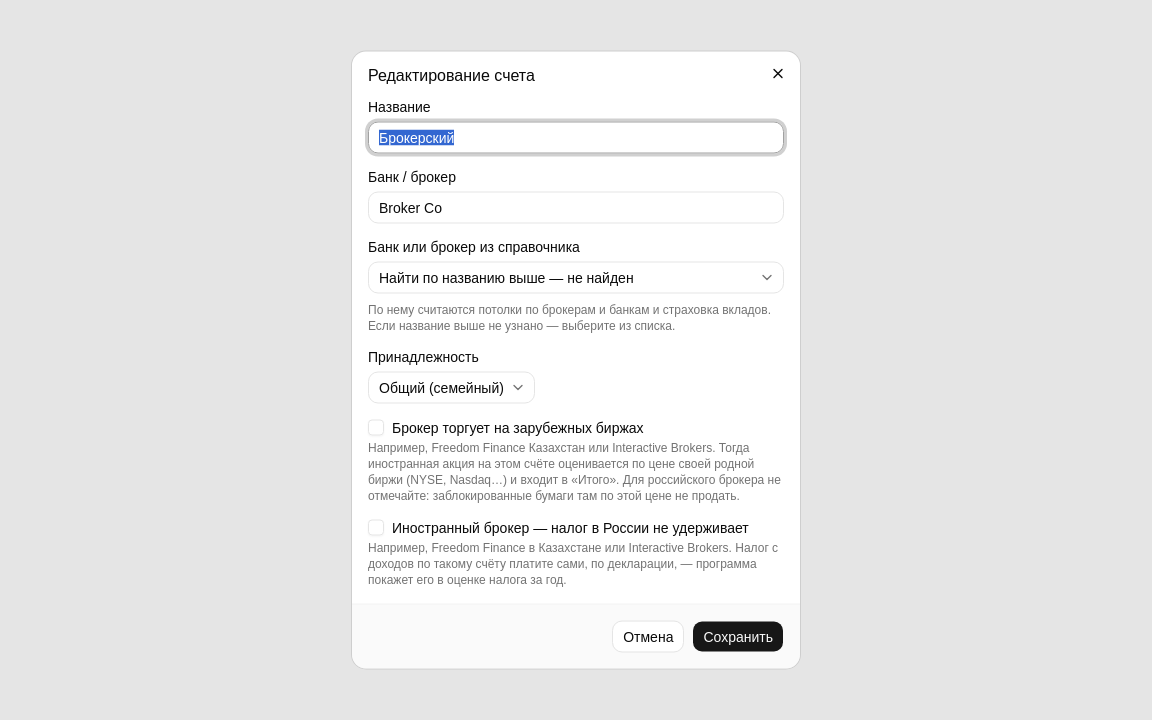
Scenario: AccountDialog — a refusal from the server › says the changes were not saved, in Russian
The image size is (1152, 720).
Replace the text in the field labelled "Название" with "Другое имя": (576, 138) top-left (368, 122), bottom-right (784, 154)
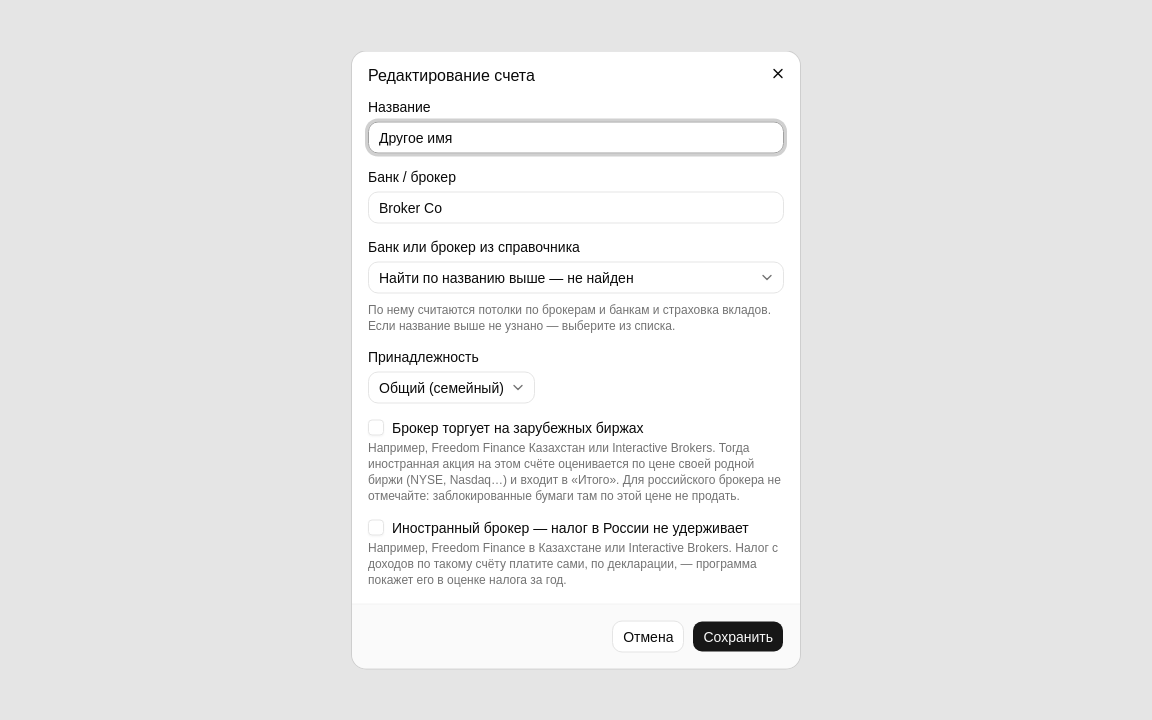
Click the button "Сохранить": (738, 636) top-left (692, 620), bottom-right (784, 652)
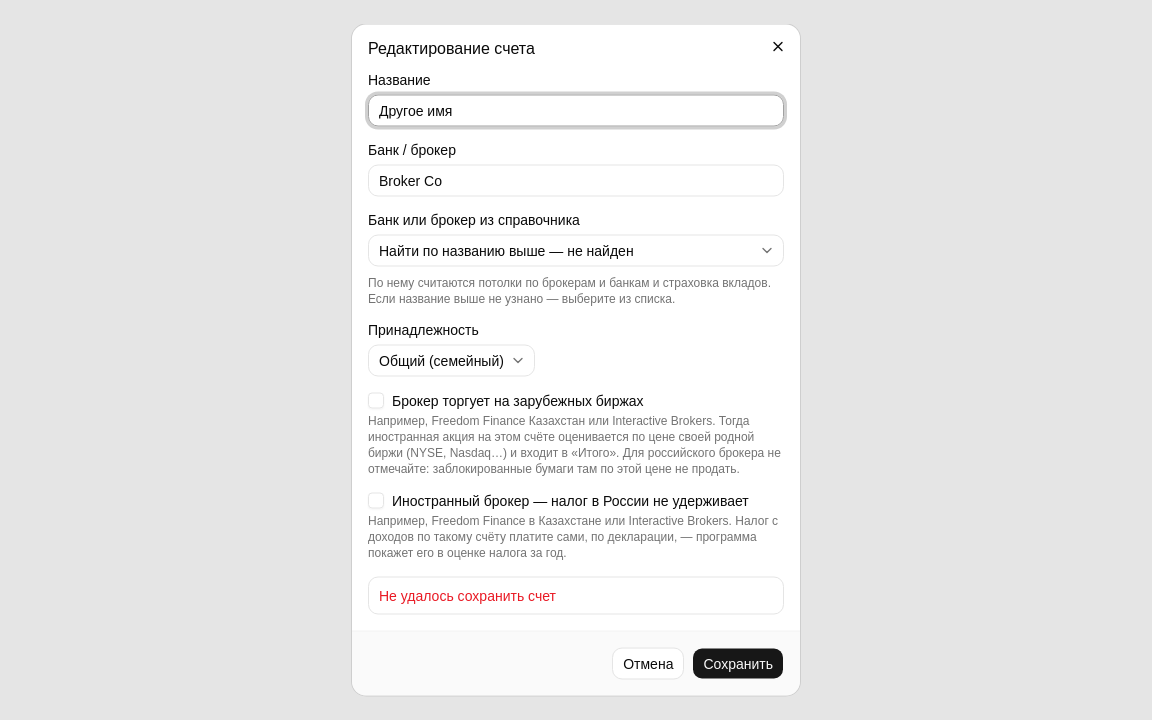
Expected: the text "Не удалось сохранить счет" is shown, top-left (379, 588), bottom-right (556, 604)
